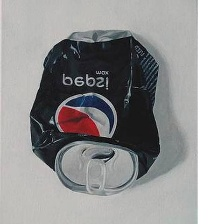can: (24, 22, 171, 202)
